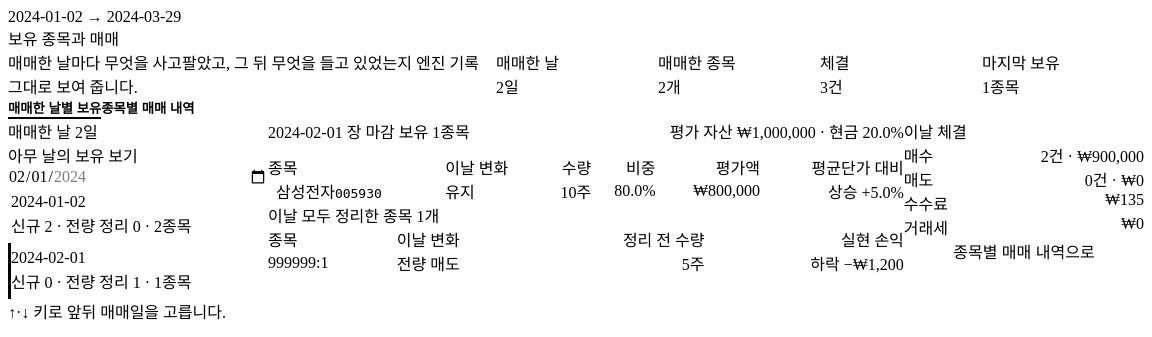
BacktestHoldings › opens on the latest trading day and reads only the day the user picks
Expected: the heading "2024-02-01 장 마감 보유 1종목" is shown, [268,119,470,143]
Expected: the text "999999:1" is shown, [268,254,328,272]
Click the button "2024-01-02 신규 2 · 전량 정리 0 · 2종목".
click(138, 215)  # box [8,187,268,243]
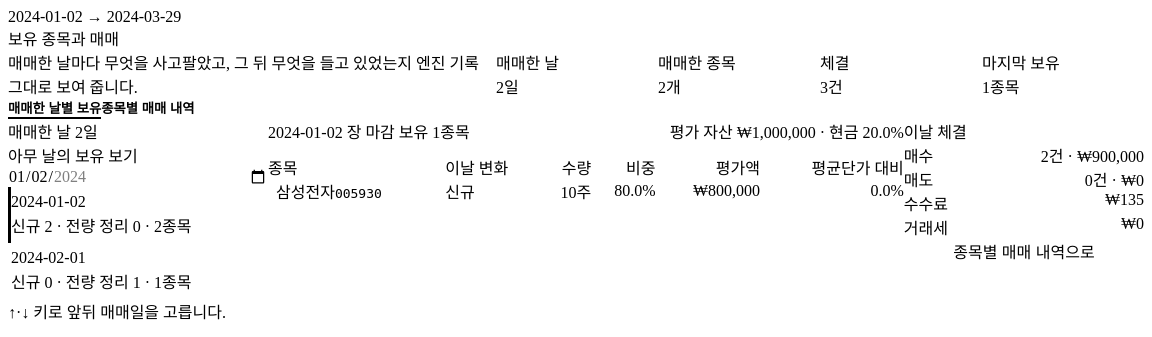
Expected: the text "신규" is shown, [445,179,475,203]
